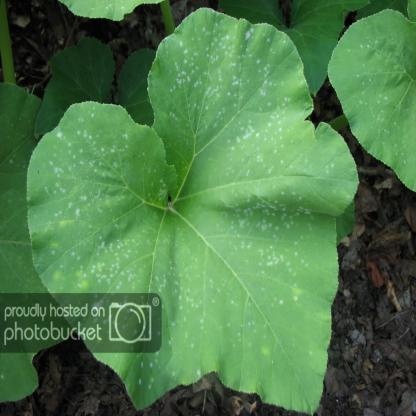Squash Powdery mildew leaf: (26, 6, 360, 416)
